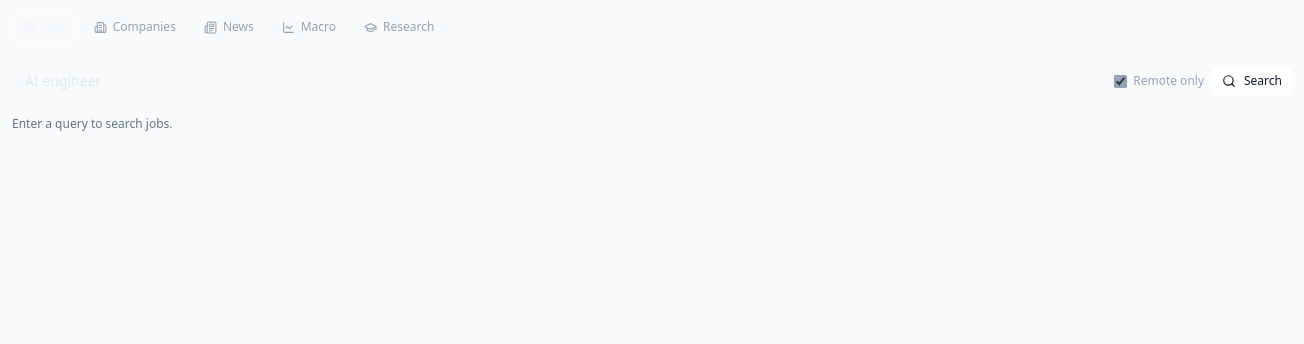
Test: scholarly card renders every verified field › shows title, authors, affiliation, year, citations, journal, date, DOI and OpenAlex id
The image size is (1304, 344).
Click the tab "Research". click: (399, 27)
box: [353,12,446,42]
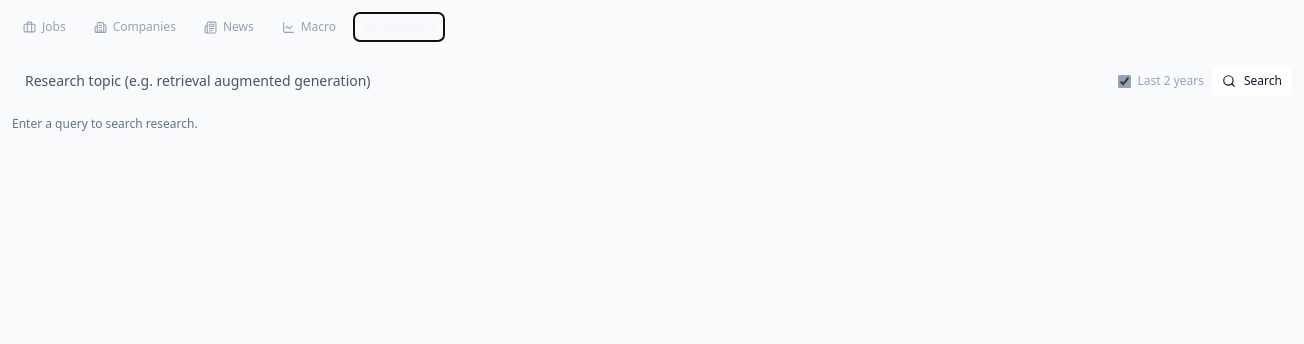
Type "ai" into the field with placeholder "Research topic (e.g. retrieval augmented generation)". click: (561, 81)
box: [12,62,1110,100]
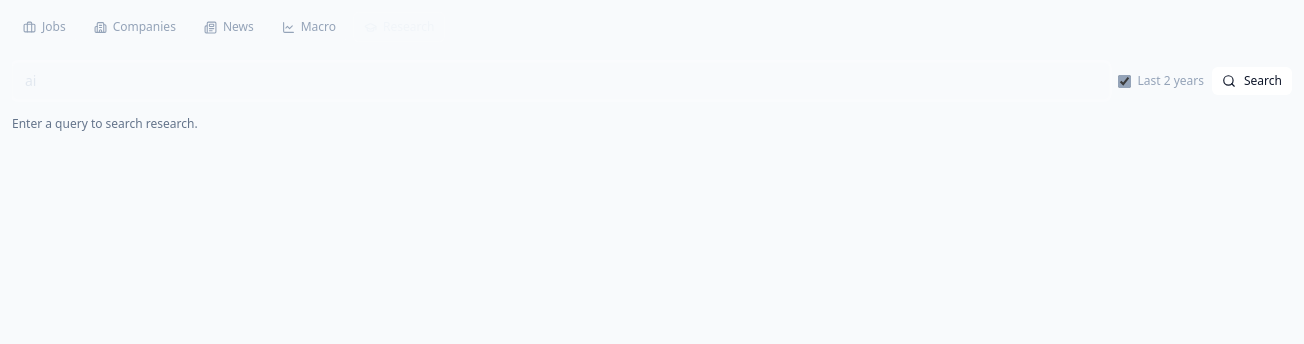
Click the button "Search". click: (1252, 81)
box: [1212,67,1292,95]
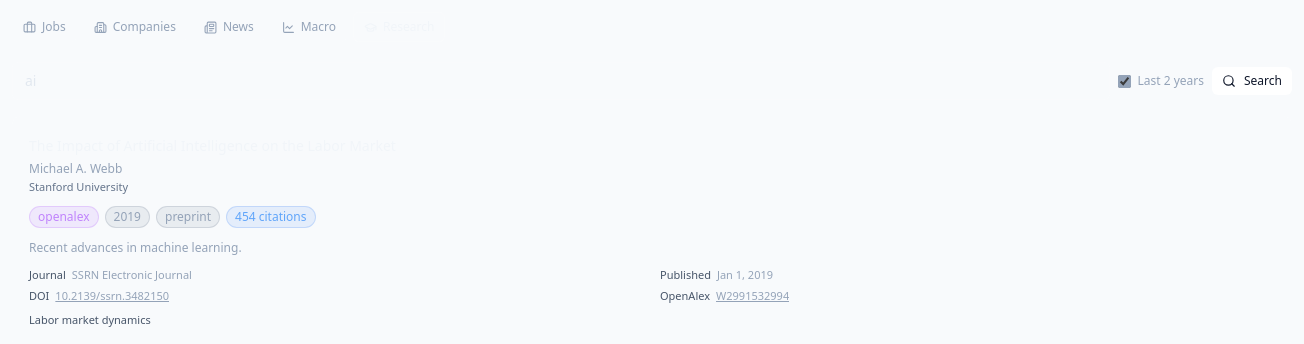
Check: the text "Michael A. Webb" is shown, box [29,160,122,177]
Check: the text "Stanford University" is shown, box [29,179,128,194]
Check: the text "2019" is shown, box [104,206,150,228]
